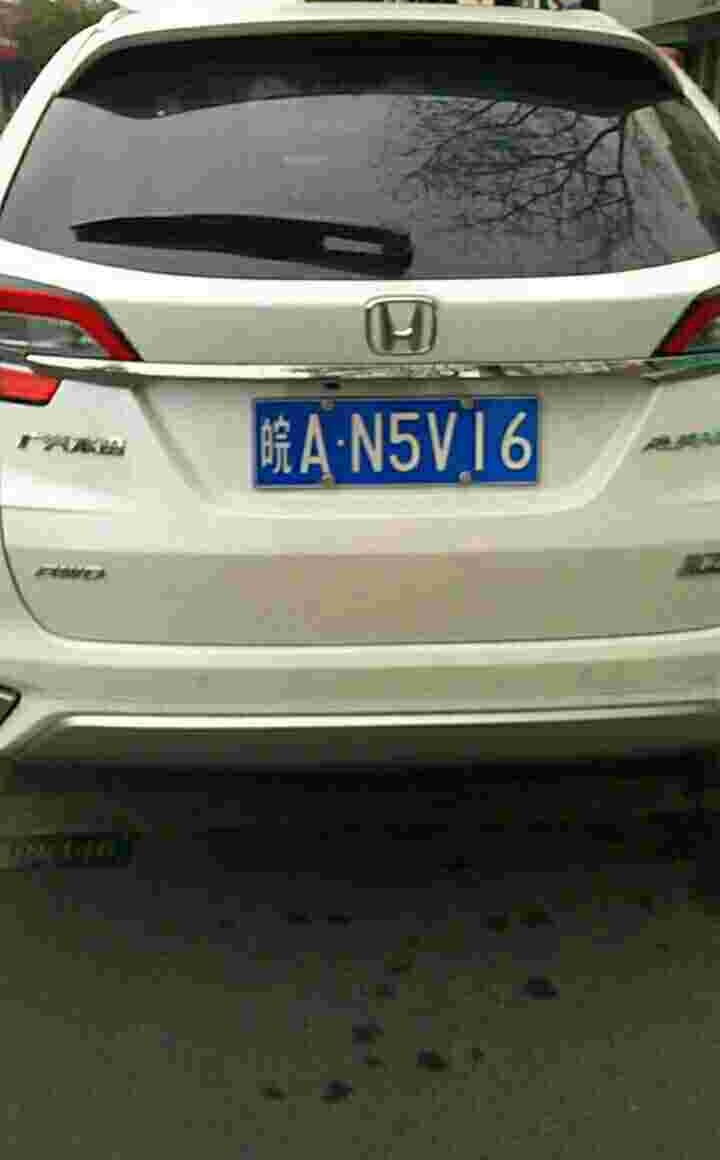license_plate: (253, 399, 530, 491)
